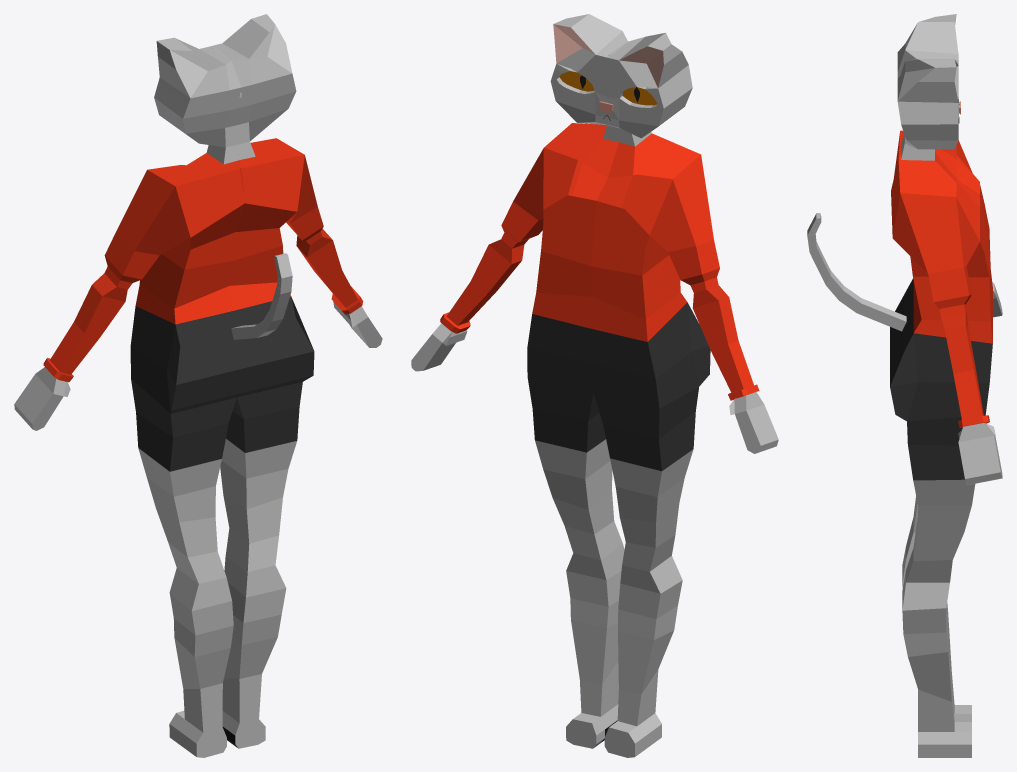
File: NPC2.fbx
3 renders of one model, left to right at view 1: azimuth 30°, elevation 25°; view 2: azimuth 150°, elevation 25°; view 3: azimuth 270°, elevation 25°, orthographic.
Visible parts, largest first — view 1: NPC2; view 2: NPC2; view 3: NPC2.
Part boxes in pixels (x1,y1,x2,y2): NPC2: (14, 14, 382, 757); NPC2: (411, 14, 778, 757); NPC2: (807, 14, 1002, 757).
Bounding box in the file's own units: 591 × 1144 × 288.
Materials: 1 (1 with a texture image).
